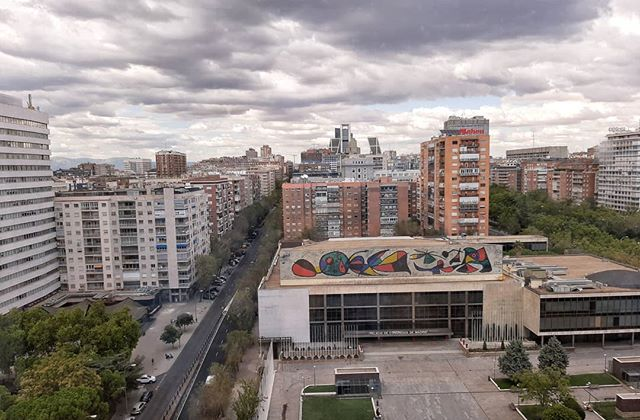building: (266, 239, 640, 346), (59, 189, 212, 291), (1, 96, 70, 302), (284, 176, 415, 243), (420, 124, 489, 237), (525, 154, 597, 207), (596, 130, 640, 214), (155, 147, 187, 179)
sky: (1, 1, 632, 153)
street: (180, 242, 257, 420)
vegetation: (1, 303, 130, 418)
